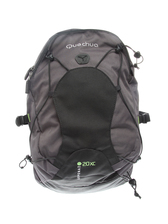bag: (14, 26, 151, 203)
